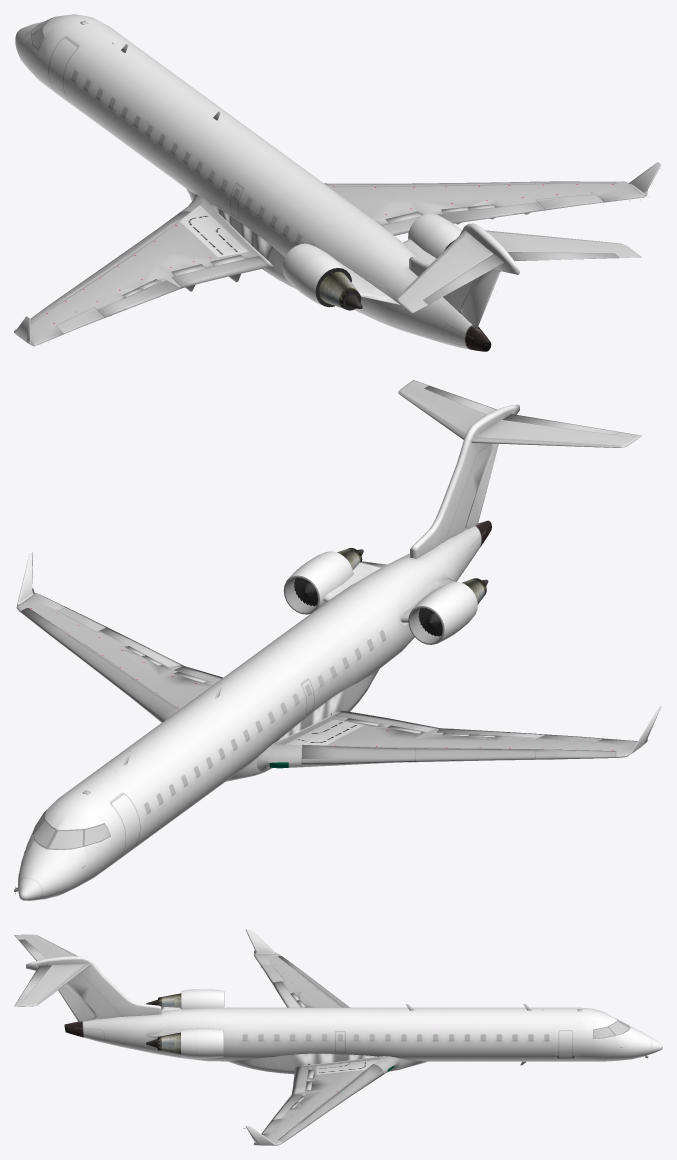
Rendered from CRJ7.glb.
The picture shows the model from 3 angles, top to bottom: view 1: azimuth 30°, elevation 25°; view 2: azimuth 150°, elevation 25°; view 3: azimuth 270°, elevation 25°; orthographic projection. The views are drawn at different scales.
Visible parts, largest first — view 1: Fuselage, Wings, Hstabs, Vstab, FlapL1, Belly, SlatsL, Rudder, Windows, Nozzle_001, FlapR2, Nacelle_001 (+12 smaller); view 2: Fuselage, Wings, Hstabs, Vstab, SlatsL, SlatsR, Belly, CockpitWindows, Nacelle_001, Windows, Nacelle, LeftDoor (+3 smaller); view 3: Fuselage, Wings, Vstab, Hstabs, Belly, SlatsR, Windows, Nacelle, Rudder, Winglets, Reverser, Nozzle (+8 smaller).
Part boxes in pixels (x1=…): Fuselage: x1=15, y1=14, x2=491, y2=351; Wings: x1=14, y1=181, x2=645, y2=346; Hstabs: x1=397, y1=230, x2=641, y2=313; Vstab: x1=409, y1=223, x2=519, y2=327; FlapL1: x1=172, y1=256, x2=269, y2=291; Belly: x1=186, y1=189, x2=295, y2=288; SlatsL: x1=30, y1=211, x2=190, y2=323; Rudder: x1=460, y1=269, x2=500, y2=328; Windows: x1=71, y1=70, x2=314, y2=245; Nozzle_001: x1=319, y1=271, x2=361, y2=309; FlapR2: x1=438, y1=203, x2=545, y2=224; Nacelle_001: x1=282, y1=243, x2=332, y2=295; Fuselage: x1=18, y1=520, x2=491, y2=900; Wings: x1=16, y1=593, x2=637, y2=771; Hstabs: x1=398, y1=380, x2=641, y2=447; Vstab: x1=410, y1=404, x2=519, y2=558; SlatsL: x1=301, y1=744, x2=615, y2=765; SlatsR: x1=21, y1=608, x2=179, y2=722; Belly: x1=226, y1=669, x2=379, y2=781; CockpitWindows: x1=34, y1=811, x2=109, y2=848; Nacelle_001: x1=411, y1=589, x2=466, y2=643; Windows: x1=144, y1=630, x2=386, y2=814; Nacelle: x1=287, y1=559, x2=341, y2=608; LeftDoor: x1=110, y1=793, x2=140, y2=857; Fuselage: x1=64, y1=1007, x2=662, y2=1061; Wings: x1=253, y1=953, x2=399, y2=1145; Vstab: x1=26, y1=956, x2=161, y2=1021; Hstabs: x1=14, y1=934, x2=90, y2=1006; Belly: x1=227, y1=1053, x2=427, y2=1074; SlatsR: x1=278, y1=1064, x2=383, y2=1142; Windows: x1=242, y1=1034, x2=549, y2=1041; Nacelle: x1=199, y1=1028, x2=223, y2=1058; Rudder: x1=58, y1=981, x2=96, y2=1021; Winglets: x1=245, y1=929, x2=276, y2=1145; Reverser: x1=181, y1=1028, x2=198, y2=1058; Nozzle: x1=146, y1=1032, x2=180, y2=1054.
Bounding box in the file's own units: 23.29 × 6.09 × 32.46.
11 materials, 5 textured.
